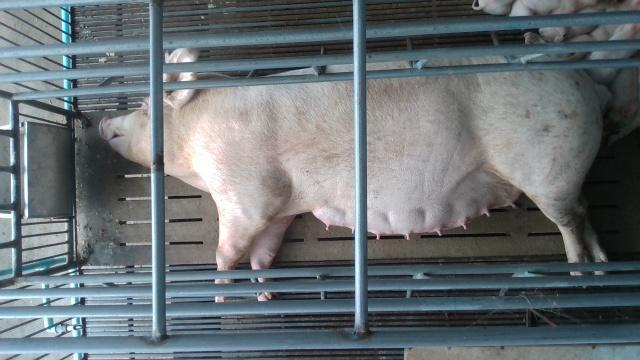piglet: (583, 22, 640, 85), (537, 8, 607, 43), (604, 66, 639, 134)
sow-sleep-lactate: (102, 47, 618, 301)
